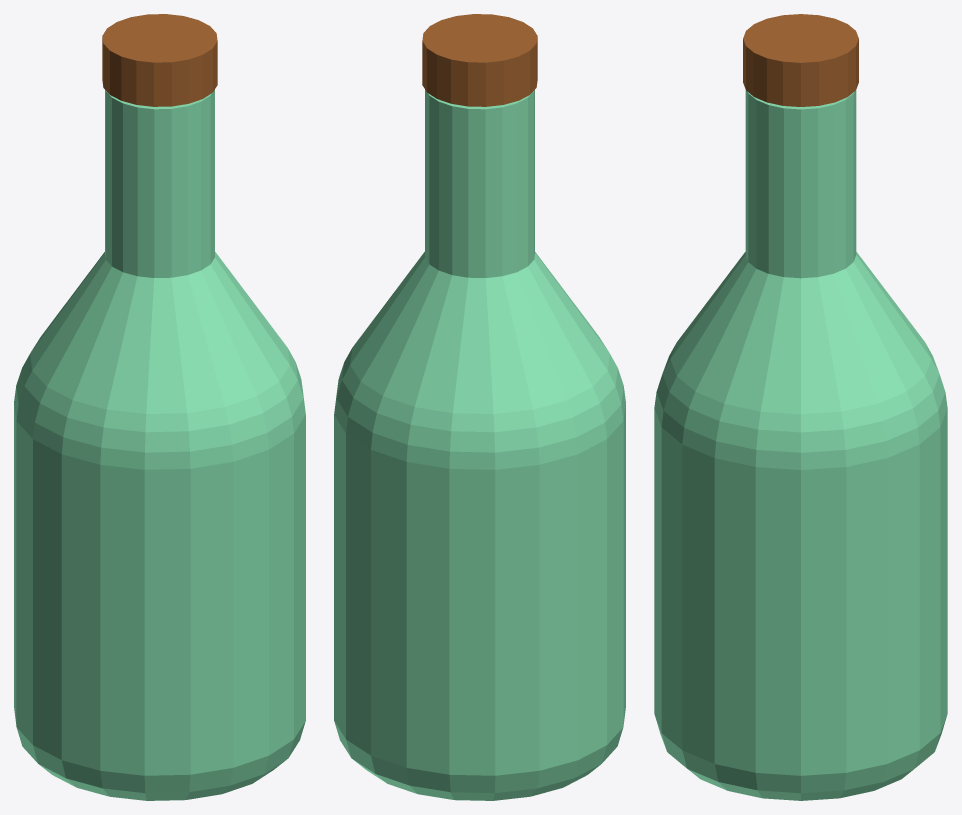
The model's file is bottle1.fbx.
3 views of the same model, side by side, from view 1: azimuth 30°, elevation 25°; view 2: azimuth 150°, elevation 25°; view 3: azimuth 270°, elevation 25° (orthographic).
Visible parts, largest first — view 1: Circle, Circle.002; view 2: Circle, Circle.002; view 3: Circle, Circle.002.
Part boxes in pixels (x1=…): Circle: x1=14, y1=90, x2=305, y2=800; Circle.002: x1=102, y1=14, x2=217, y2=106; Circle: x1=334, y1=90, x2=625, y2=800; Circle.002: x1=422, y1=14, x2=537, y2=106; Circle: x1=654, y1=90, x2=947, y2=800; Circle.002: x1=743, y1=14, x2=858, y2=106.
Bounding box in the file's own units: 2 × 5.38 × 2.
